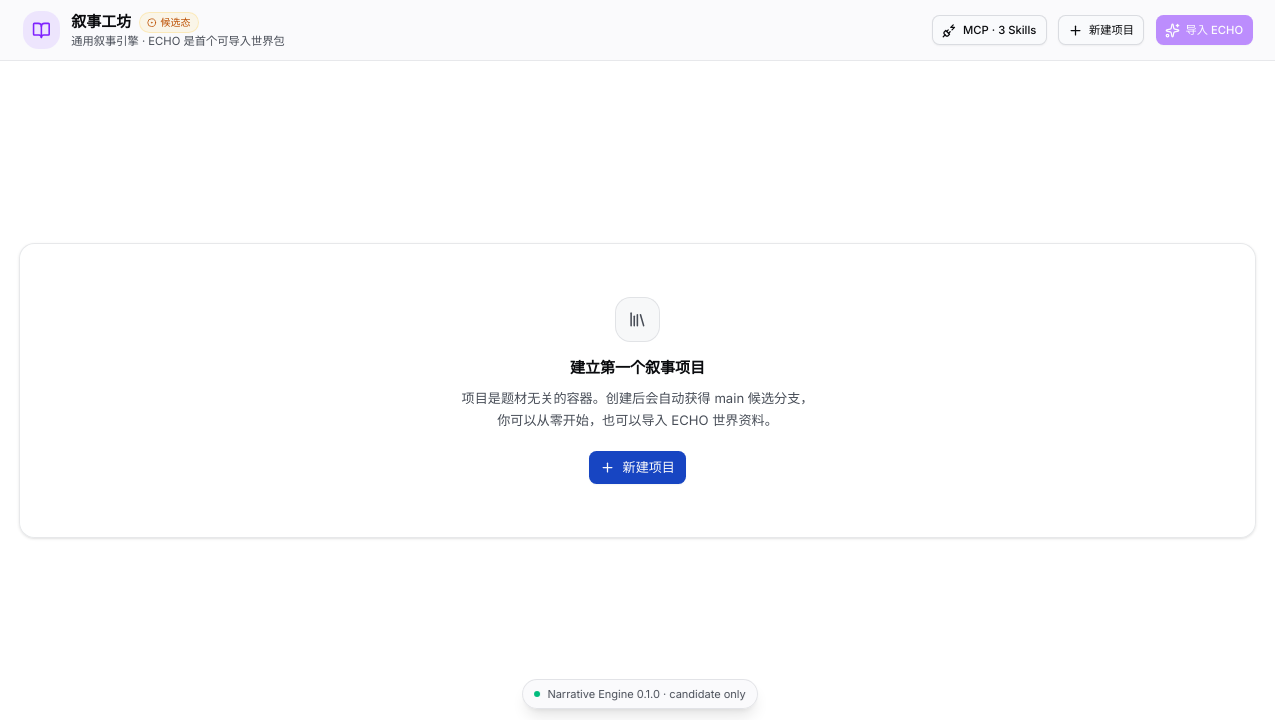
Test case: NarrativePage › shows a usable project creation flow when storage is empty
Expected: the heading "建立第一个叙事项目" is shown, [570,357,705,379]
Click the button "新建项目" in the row of "通用叙事引擎 · ECHO 是首个可导入世界包" at (1101, 30), box [1058,15,1144,45]
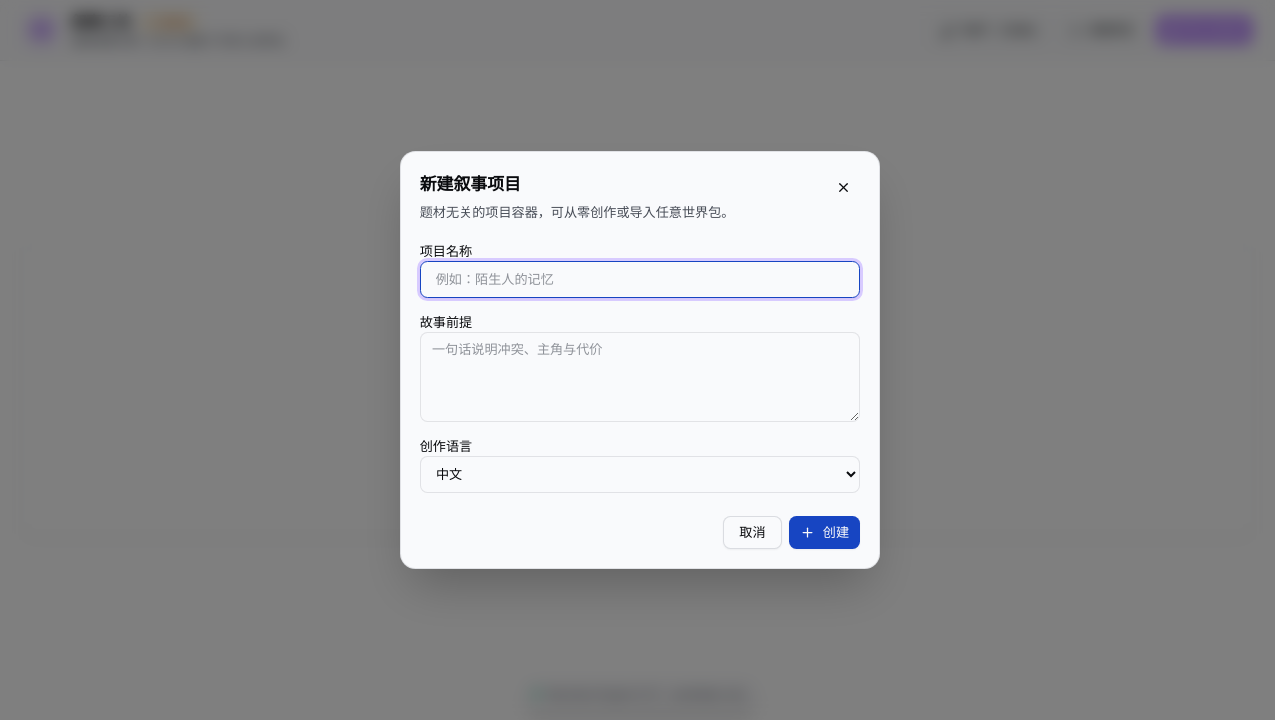
Now the dialog is shown, box [400,151,880,569]
Now the field labelled "项目名称" is shown, box [420,261,860,298]
Now the text "创作语言" is shown, box [420,437,860,493]
